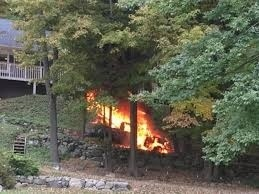fire: (85, 90, 173, 153)
